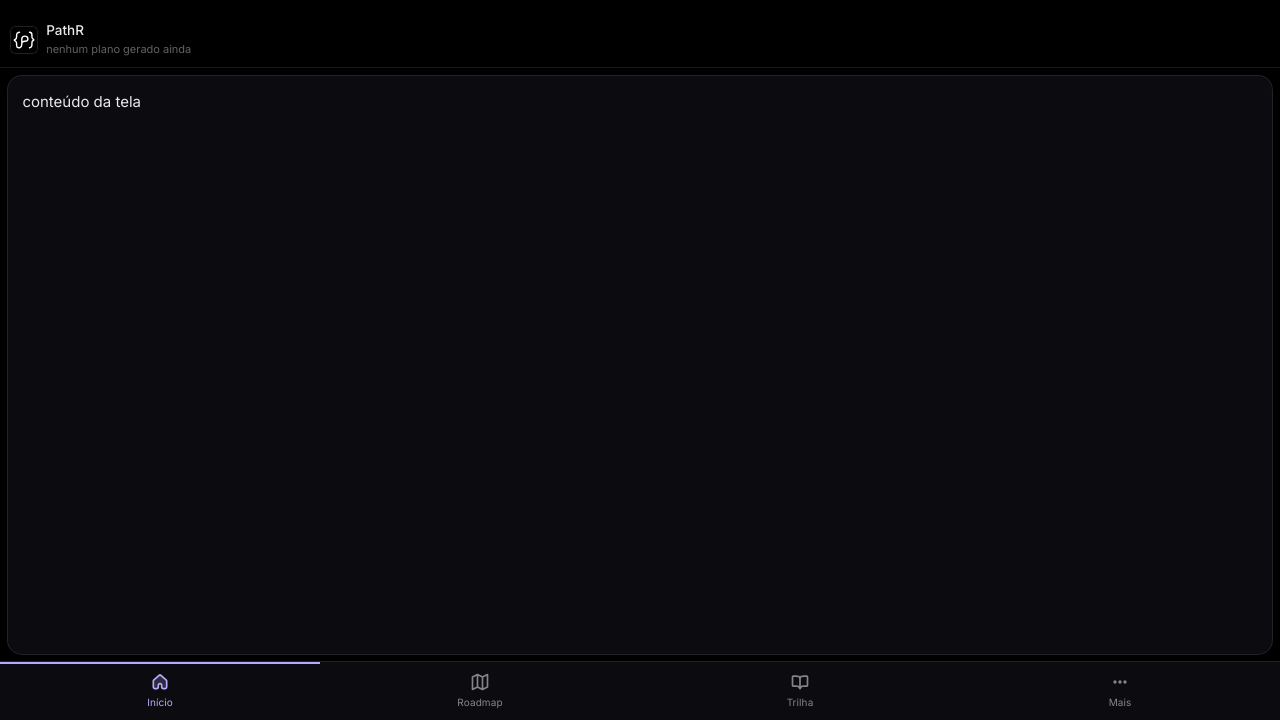
Test: moldura do celular › alcança o "Sair" pela folha do "Mais"
Click the button "Mais" at (1120, 691), box [960, 662, 1279, 719]
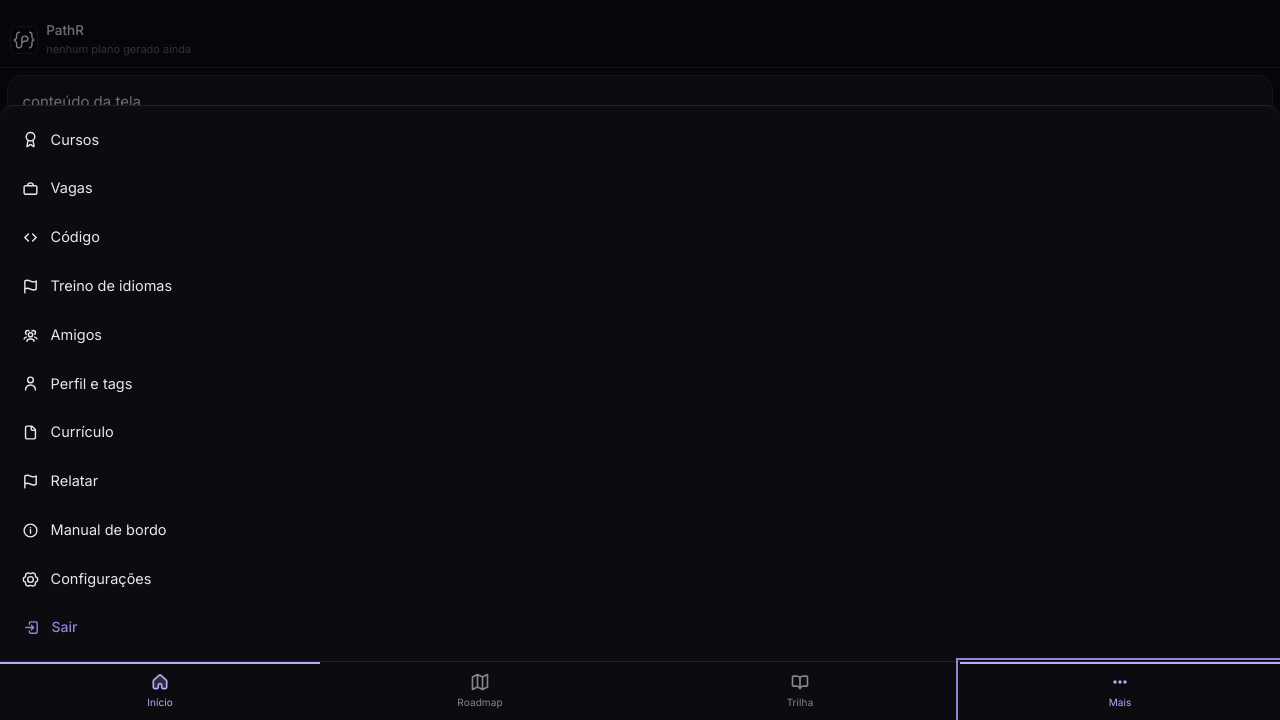
Result: the button "Cursos" is shown at [11, 117, 1269, 163]
Result: the button "Vagas" is shown at [11, 166, 1269, 212]
Result: the button "Treino de idiomas" is shown at [11, 263, 1269, 309]
